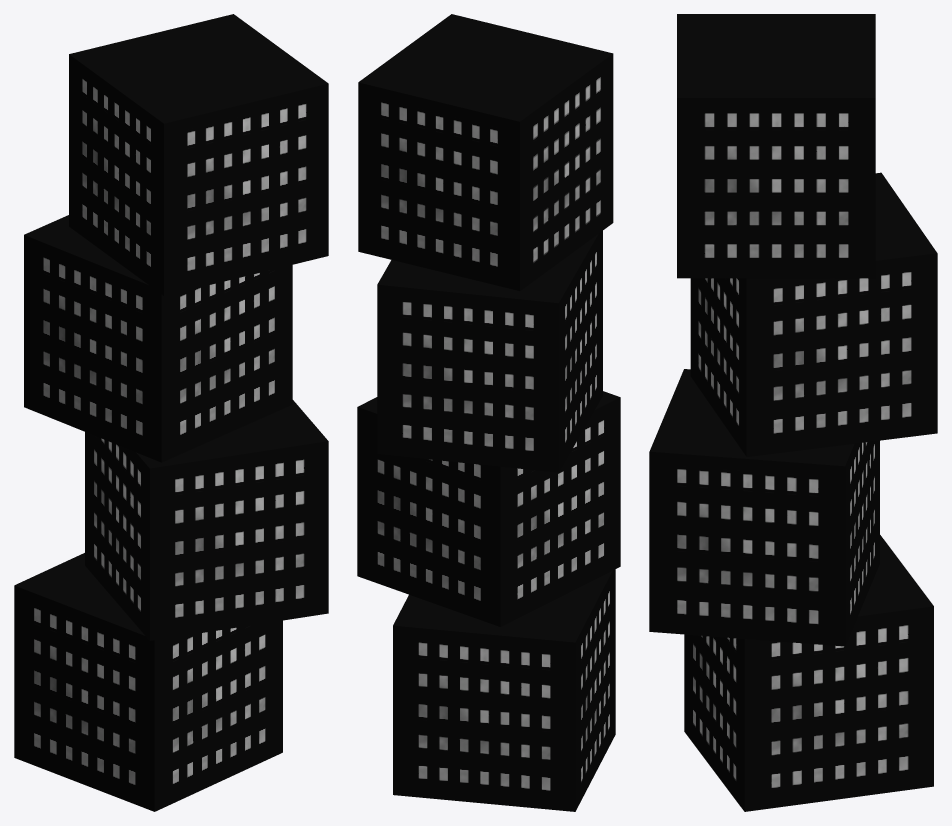
File: house06.dae
3 views of the same model, side by side, from view 1: azimuth 30°, elevation 25°; view 2: azimuth 150°, elevation 25°; view 3: azimuth 270°, elevation 25° (orthographic). The views are drawn at different scales.
Visible parts, largest first — view 1: house06; view 2: house06; view 3: house06.
Boxes of the visible parts, left/top/right/bottom form: house06: left=14, top=14, right=328, bottom=811; house06: left=357, top=14, right=620, bottom=811; house06: left=649, top=14, right=937, bottom=811.
Size of the model in its own units: 25.69 by 71.81 by 26.01.
Materials: 1 (1 with a texture image).
